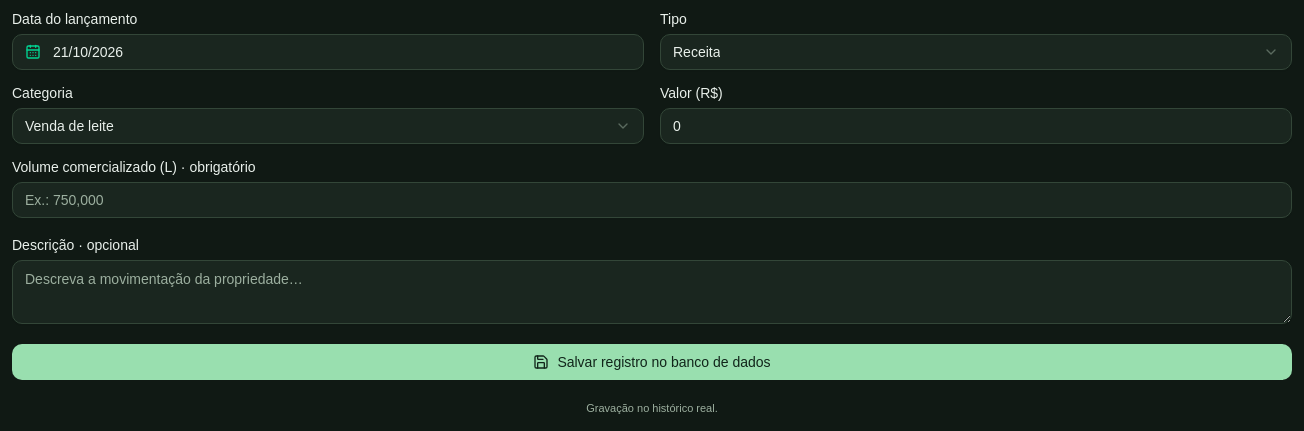
Test: financial record form › shows only expense categories and clears the milk volume
Click the dropdown named "Tipo" at (697, 52), box left=660, top=34, right=1292, bottom=70
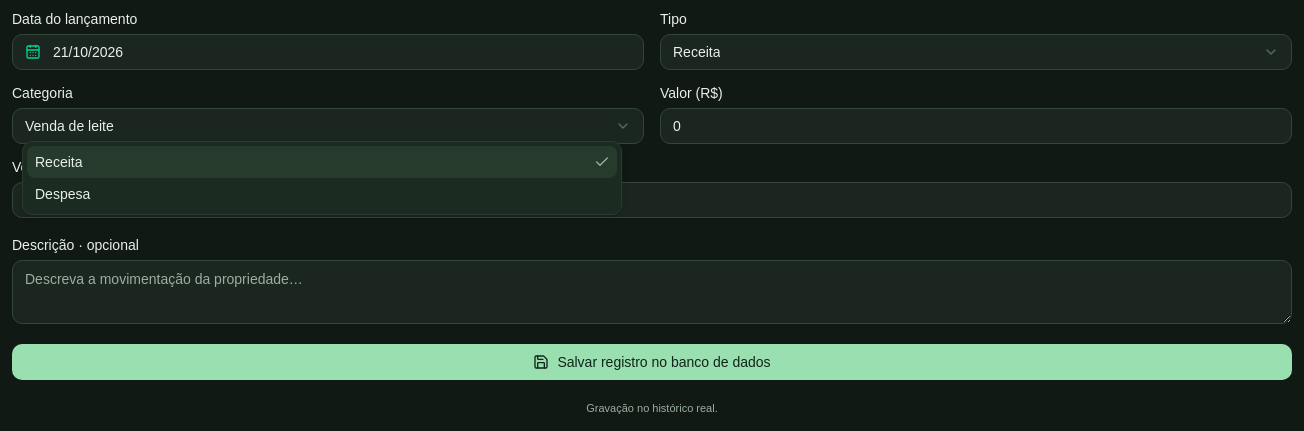
Click the option "Despesa" at (63, 194), box left=35, top=186, right=90, bottom=202
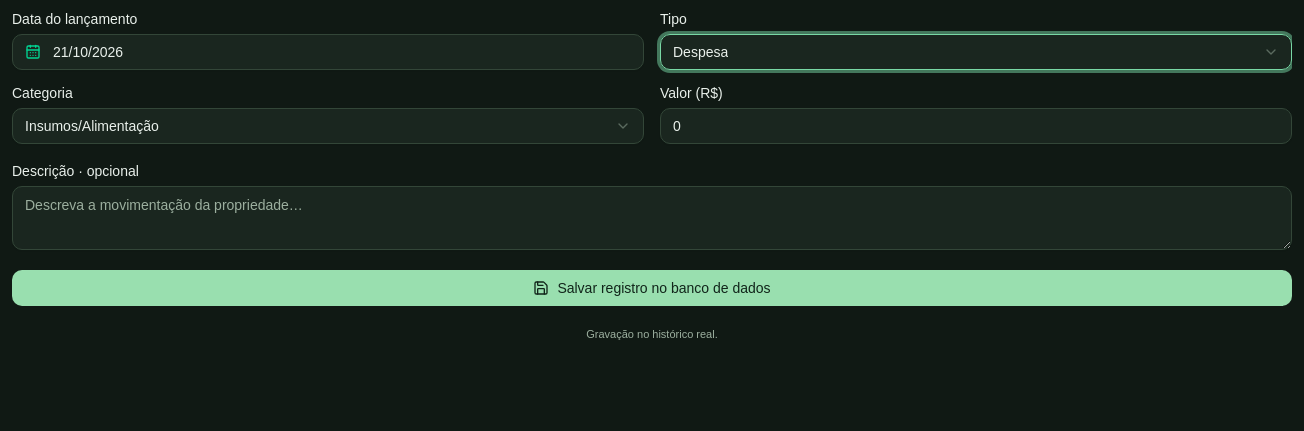
Result: the label labelled "Volume comercializado (L) · obrigatório" is gone
Click the dropdown named "Categoria" at (92, 126), box left=12, top=108, right=644, bottom=144
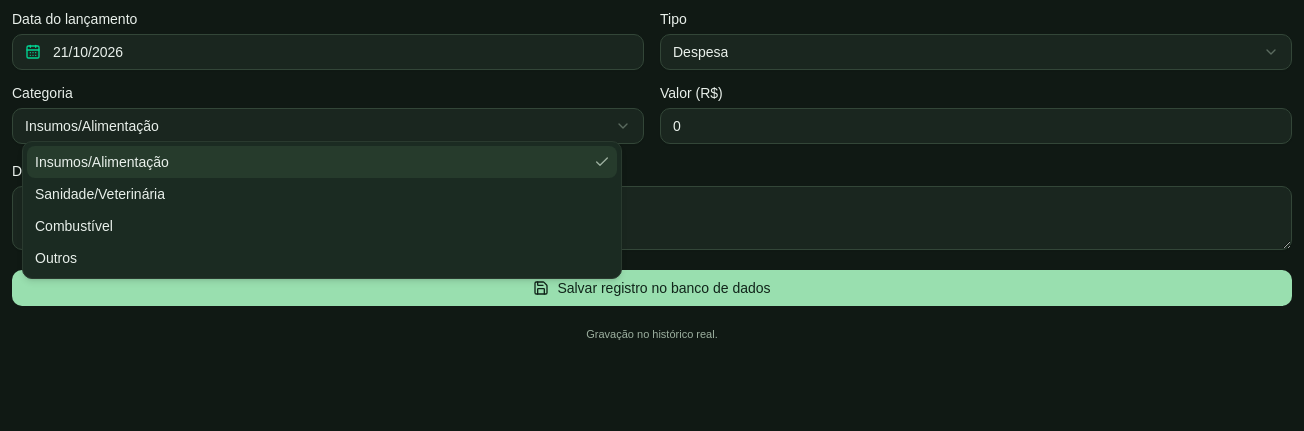
Expected: the dropdown labelled "Venda de leite" is not shown
Result: the option "Insumos/Alimentação" is shown at left=27, top=146, right=617, bottom=178
